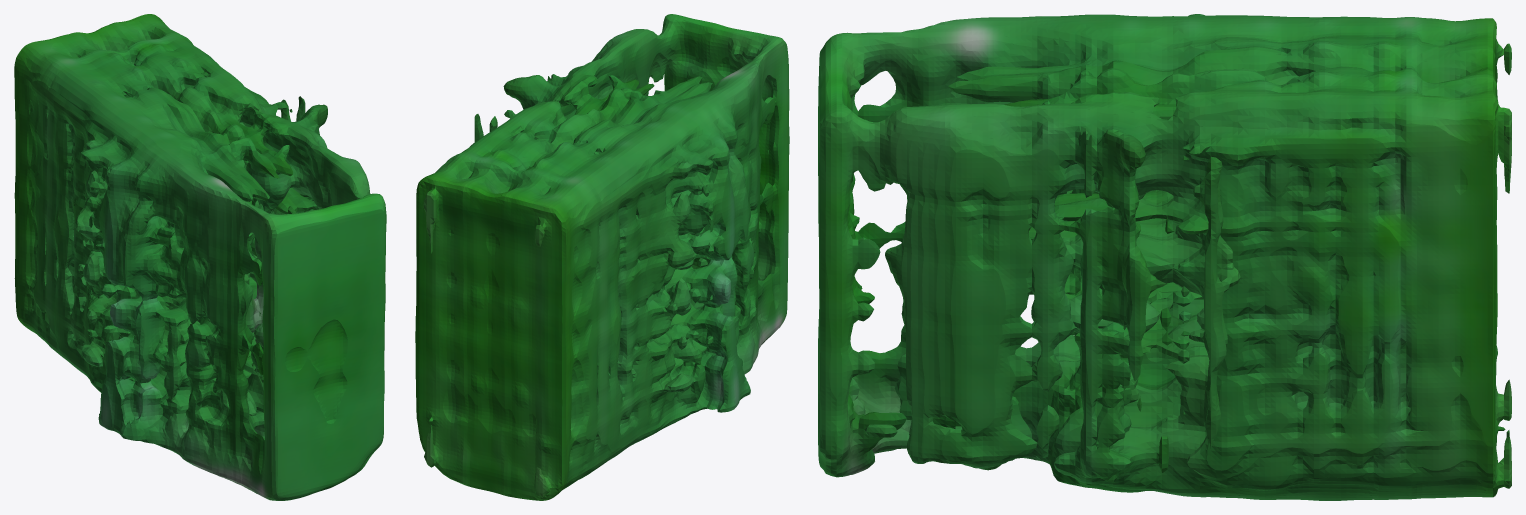
File: a_green_fridge.0.glb
3 renders of one model, left to right at view 1: azimuth 30°, elevation 25°; view 2: azimuth 150°, elevation 25°; view 3: azimuth 270°, elevation 25°, orthographic. The views are drawn at different scales.
Parts seen in each view (by area): view 1: a_green_fridge.0.obj; view 2: a_green_fridge.0.obj; view 3: a_green_fridge.0.obj.
Part boxes in pixels (bbox=[...]): a_green_fridge.0.obj: bbox=[14, 14, 386, 500]; a_green_fridge.0.obj: bbox=[415, 14, 789, 500]; a_green_fridge.0.obj: bbox=[818, 14, 1511, 500].
Bounding box in the file's own units: 1.07 × 1.37 × 1.98.
